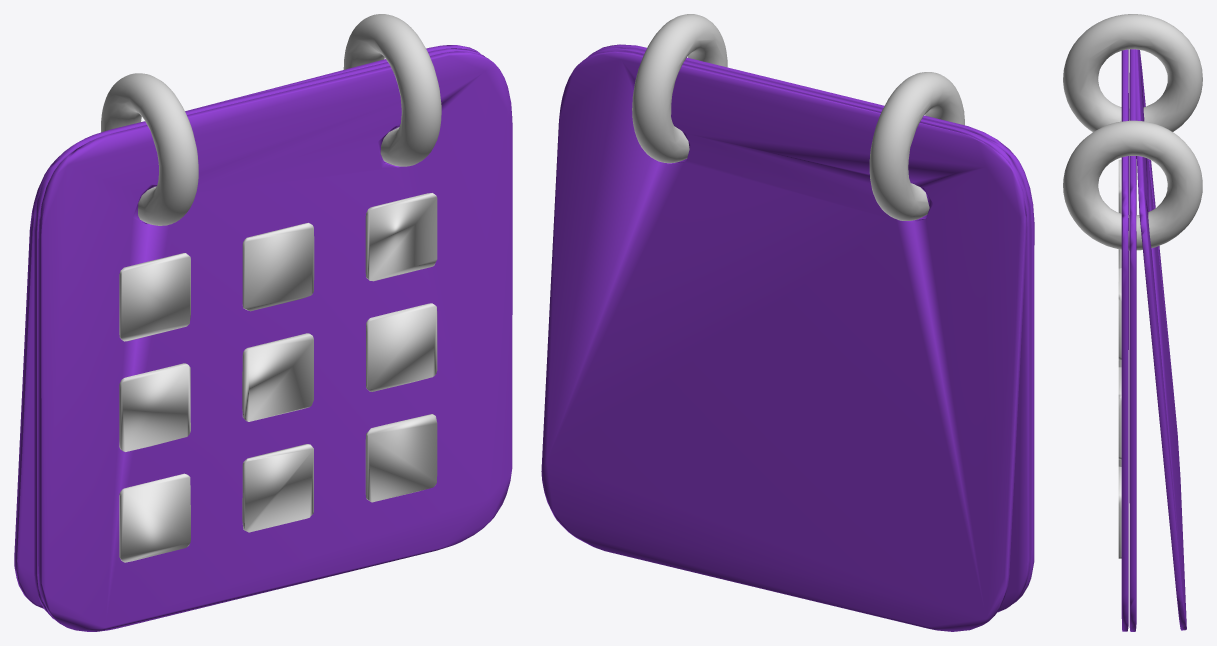
Rendered from calender.glb.
The picture shows the model from 3 angles, left to right: view 1: azimuth 30°, elevation 25°; view 2: azimuth 150°, elevation 25°; view 3: azimuth 270°, elevation 25°; orthographic projection. The views are drawn at different scales.
Visible parts, largest first — view 1: Plane.002, Torus.009; view 2: Plane.002, Torus.009; view 3: Torus.009, Plane.002.
Part boxes in pixels (box(x1,y1,x2,y2)): Plane.002: box(14, 45, 512, 631); Torus.009: box(101, 14, 441, 225); Plane.002: box(541, 44, 1034, 631); Torus.009: box(632, 14, 964, 220); Torus.009: box(1063, 14, 1202, 250); Plane.002: box(1118, 49, 1186, 631).
Bounding box in the file's own units: 1.79 × 1.94 × 0.5096.
